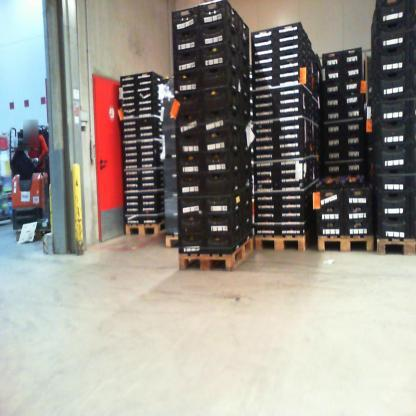pallets: (177, 236, 253, 272), (316, 234, 374, 252), (254, 234, 306, 251), (375, 236, 415, 256), (123, 221, 164, 236)
